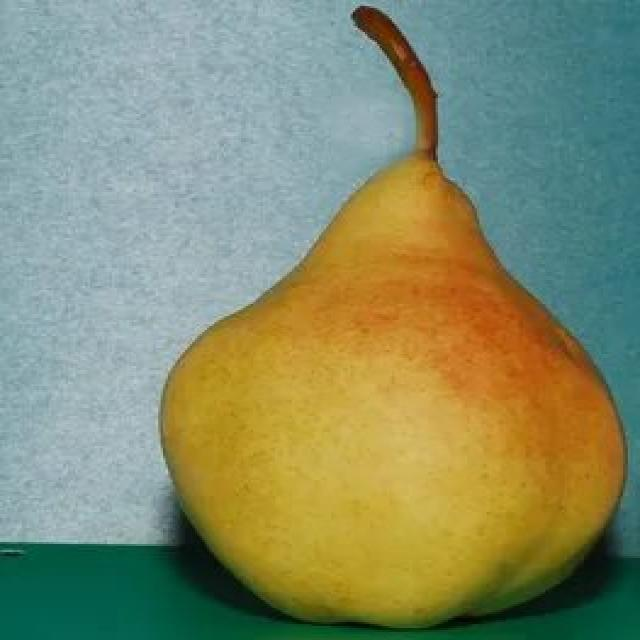pear: (148, 0, 633, 628)
